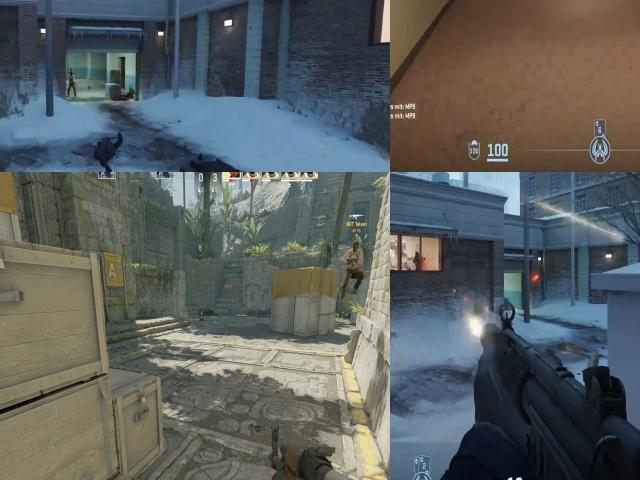Bomb: (242, 418, 268, 440)
CT: (414, 251, 421, 271)
Dead: (87, 125, 126, 172), (194, 305, 219, 320)
T: (343, 234, 364, 300), (67, 71, 78, 101)
T-Head: (348, 239, 362, 255), (69, 70, 75, 79)
